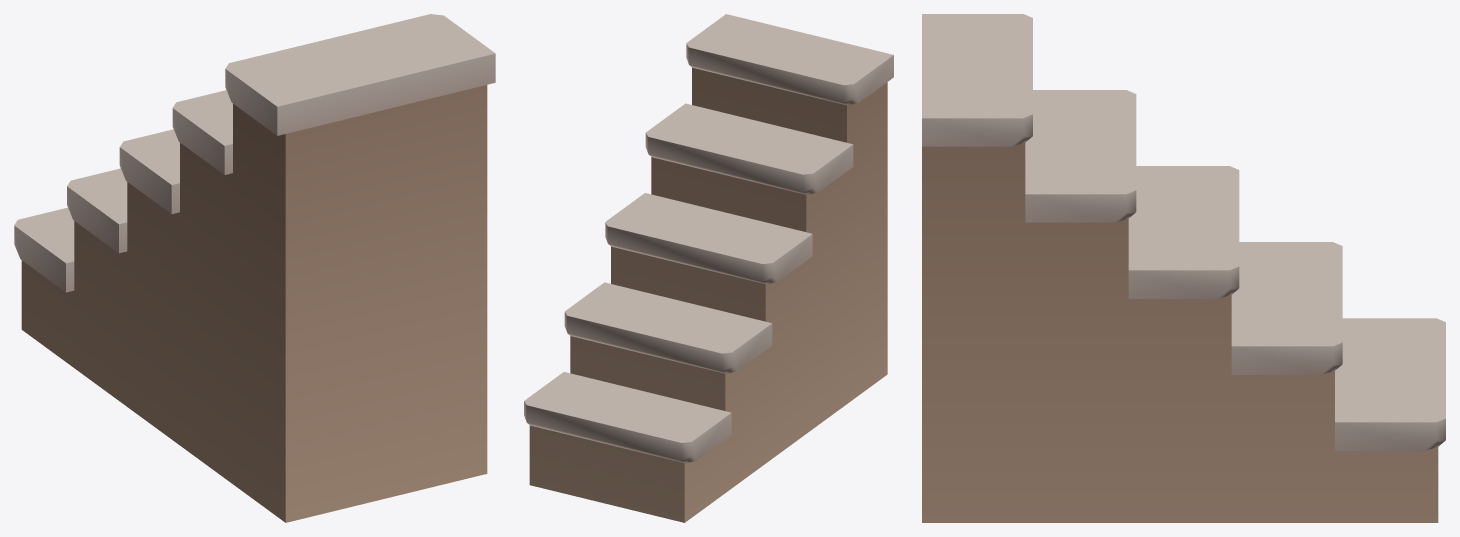
The model's file is stairs-closed-half.glb.
3 renders of one model, left to right at view 1: azimuth 30°, elevation 25°; view 2: azimuth 150°, elevation 25°; view 3: azimuth 270°, elevation 25°, orthographic. The views are drawn at different scales.
Visible parts, largest first — view 1: stairs-closed-half; view 2: stairs-closed-half; view 3: stairs-closed-half.
Boxes of the visible parts, bbox=[...] form: stairs-closed-half: bbox=[14, 14, 495, 522]; stairs-closed-half: bbox=[524, 14, 893, 522]; stairs-closed-half: bbox=[922, 14, 1445, 522].
Bounding box in the file's own units: 0.6514 × 1.19 × 1.38.
